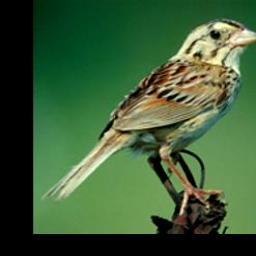Sparrow: (39, 16, 256, 217)
